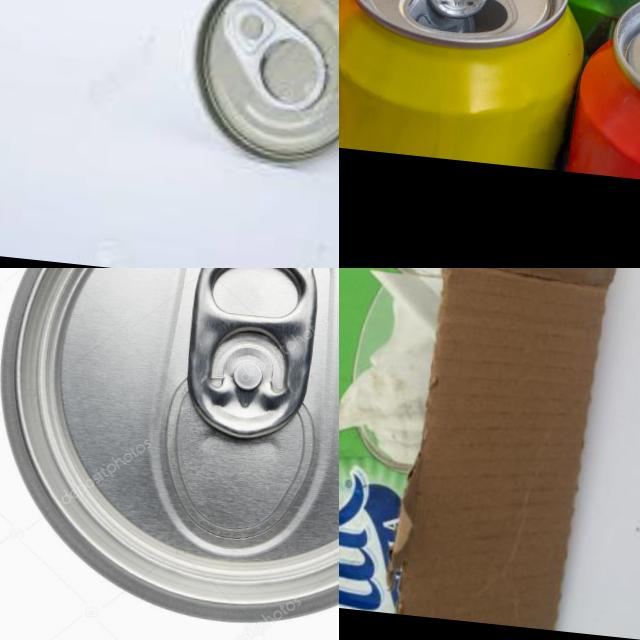aba de lata: (177, 268, 326, 444), (210, 0, 336, 114), (422, 0, 498, 23)
lata: (0, 268, 339, 640), (339, 0, 594, 171), (176, 0, 339, 184), (572, 0, 640, 191)
papelão: (339, 268, 640, 635)
